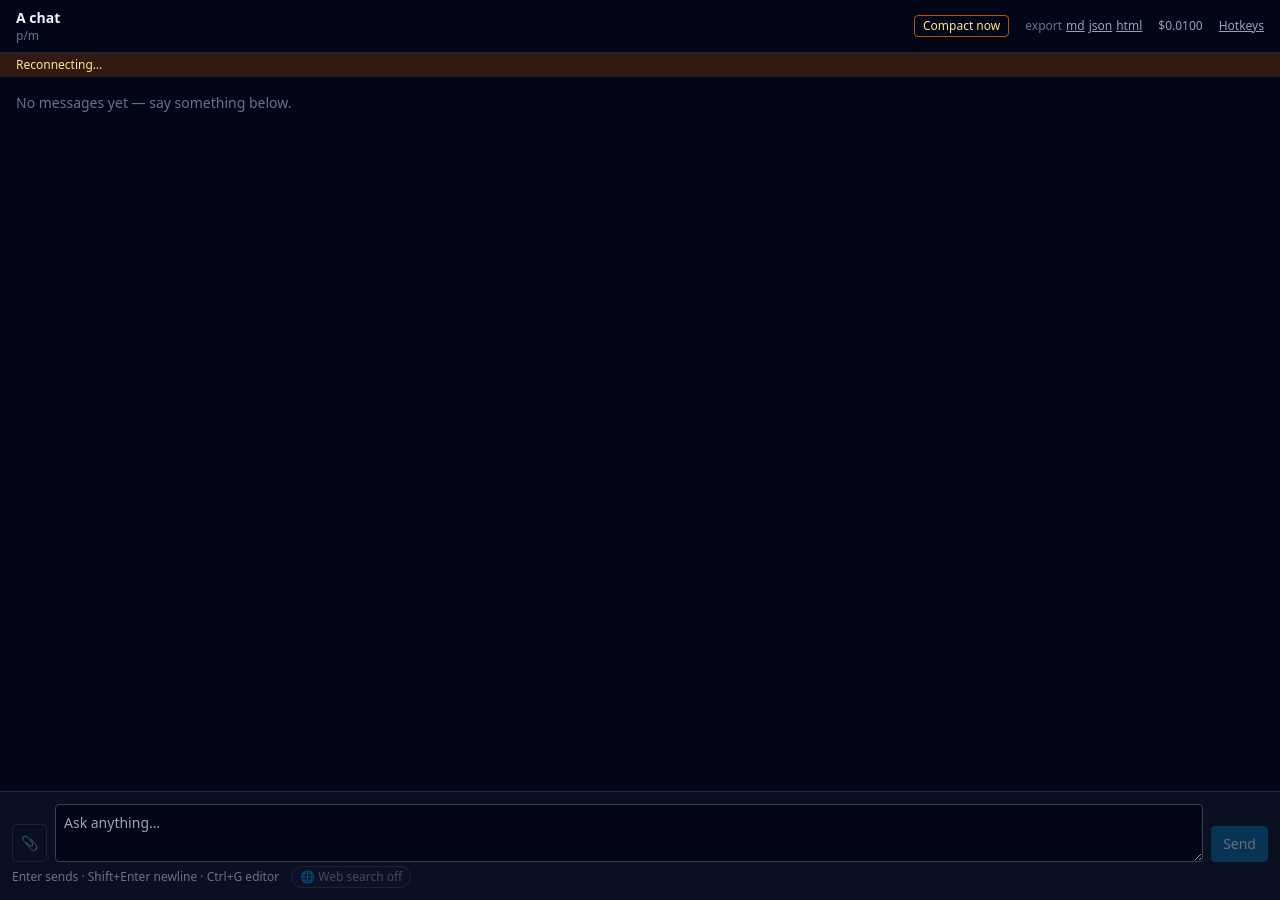
conversation header › [09-api#8.5] offers Compact now above 70 % context and posts the request
Click the button with test id "compact-now". click: (962, 26)
box: [914, 15, 1009, 37]
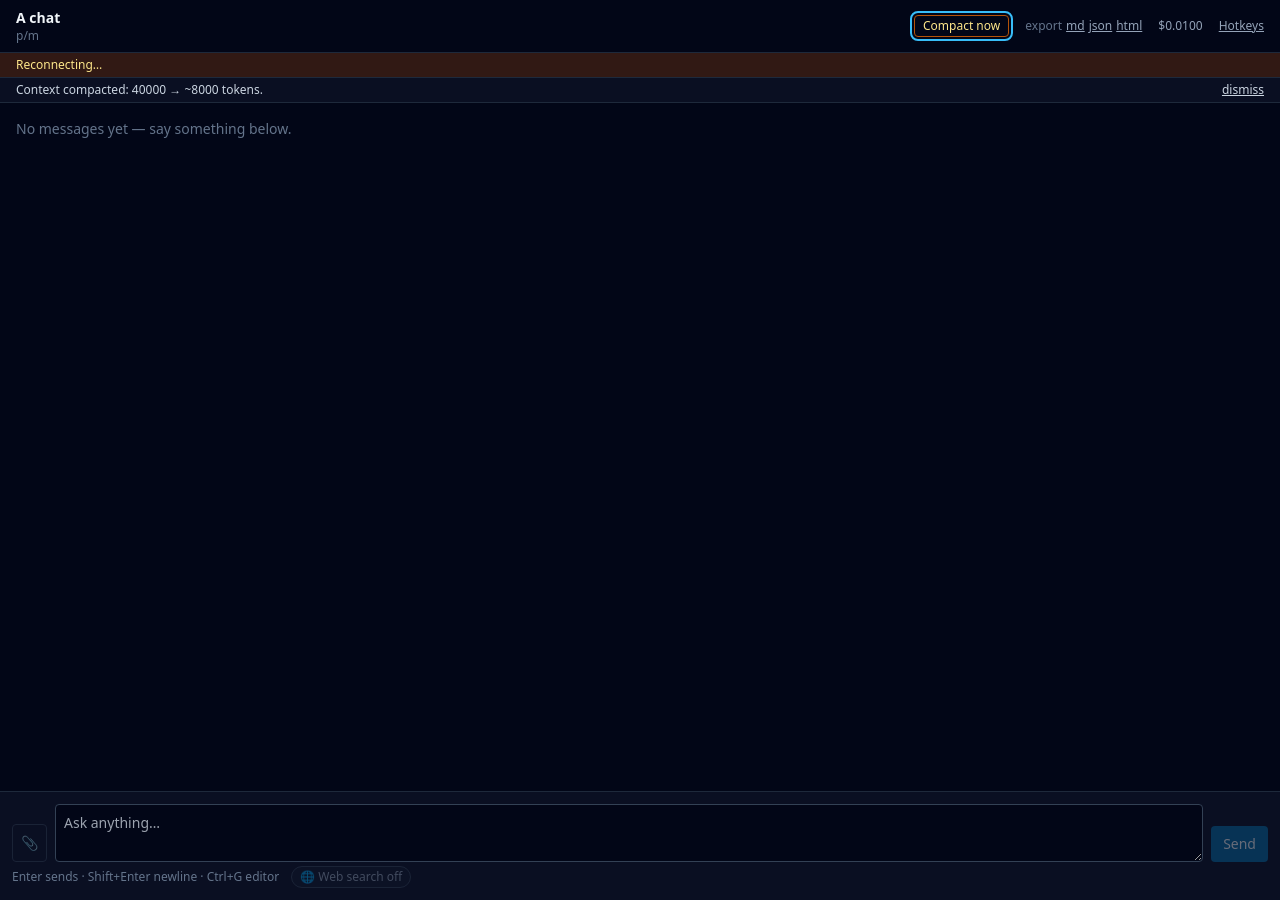
Result: the text "Context compacted: 40000 → ~8000 tokens." is shown at [16, 82, 263, 98]
